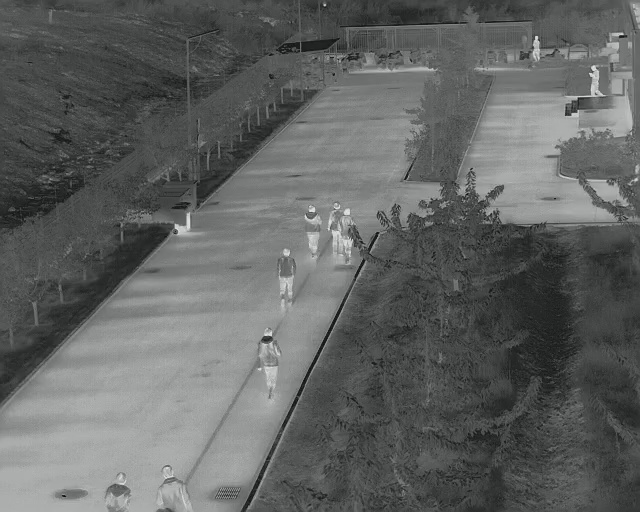person: (255, 325, 281, 401), (154, 464, 192, 512), (277, 246, 296, 311), (102, 469, 130, 512), (304, 205, 322, 261), (338, 208, 355, 267), (327, 201, 341, 256), (586, 64, 602, 96), (531, 35, 540, 61)
